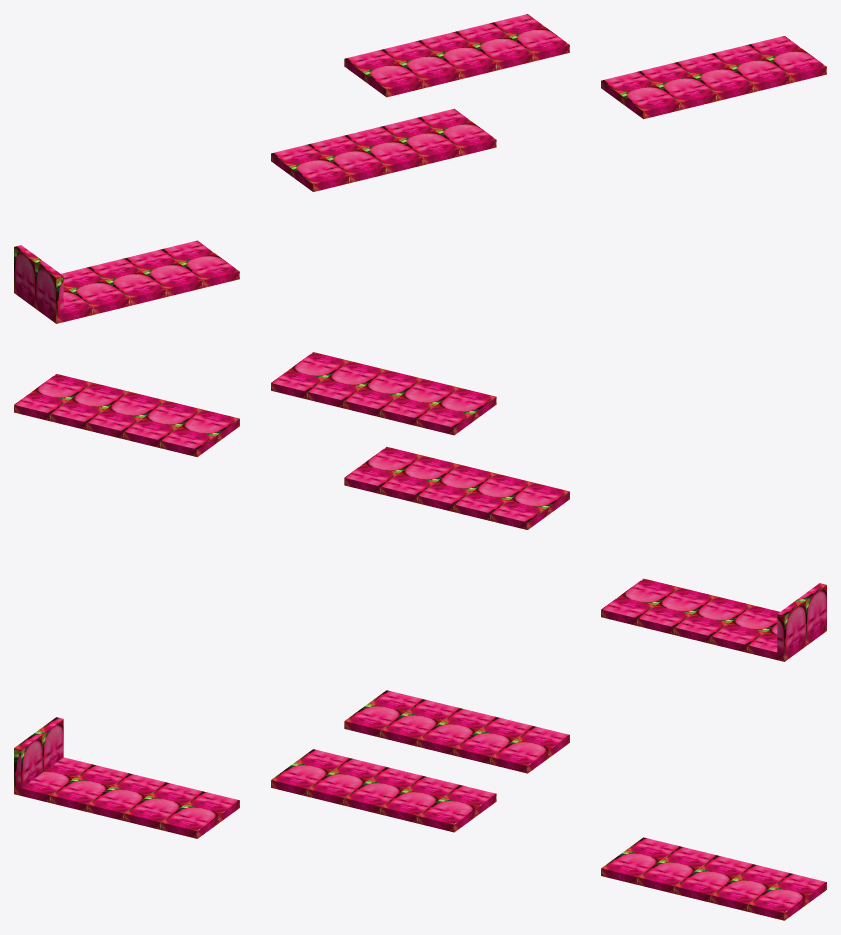
Rendered from bases.glb.
3 renders of one model, top to bottom at view 1: azimuth 30°, elevation 25°; view 2: azimuth 150°, elevation 25°; view 3: azimuth 330°, elevation 25°, orthographic.
Parts seen in each view (by area): view 1: plataformas.002; view 2: plataformas.002; view 3: plataformas.002.
Boxes of the visible parts, left/top/right/bottom form: plataformas.002: left=14, top=14, right=826, bottom=323; plataformas.002: left=14, top=352, right=826, bottom=661; plataformas.002: left=14, top=690, right=826, bottom=920.
Size of the model in its own units: 21 by 4 by 2.
1 material, 1 textured.
